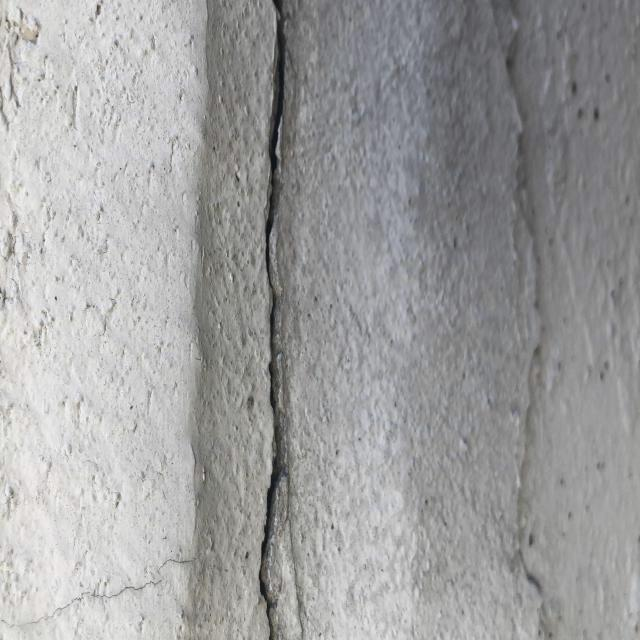SurfaceCrack: (198, 0, 347, 640), (1, 542, 197, 639)
